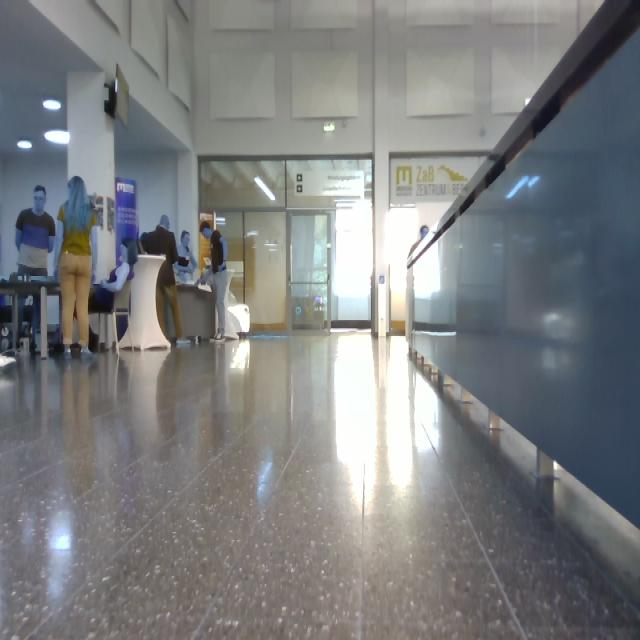door: (245, 213, 286, 330), (216, 213, 244, 304)
light bulb: (255, 177, 276, 201), (45, 130, 70, 145), (44, 100, 61, 112), (18, 140, 33, 150), (324, 121, 334, 132), (204, 258, 211, 268)
person: (58, 177, 99, 353), (141, 216, 189, 345), (201, 222, 238, 338), (16, 186, 56, 276), (90, 238, 138, 312), (174, 232, 197, 284), (31, 296, 40, 354), (421, 226, 429, 241)
staircase: (407, 1, 640, 529)
table: (1, 277, 60, 358), (120, 256, 170, 349)
tiled floor: (1, 333, 640, 640)
